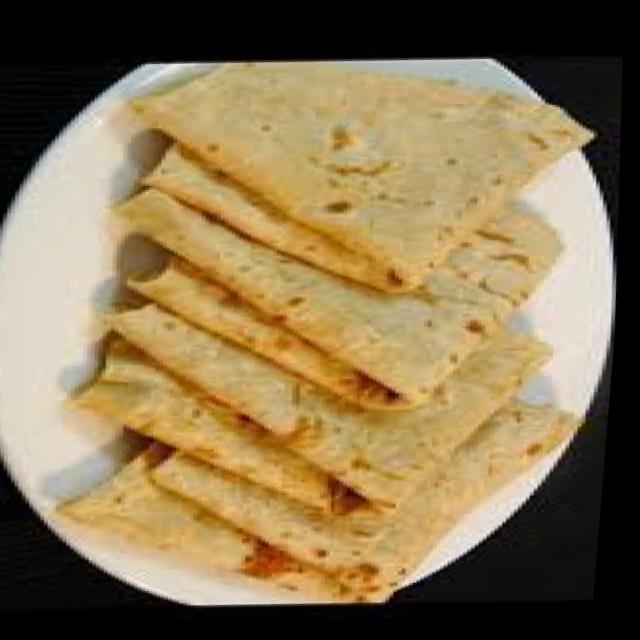CHAPATHI: (50, 59, 602, 605)
